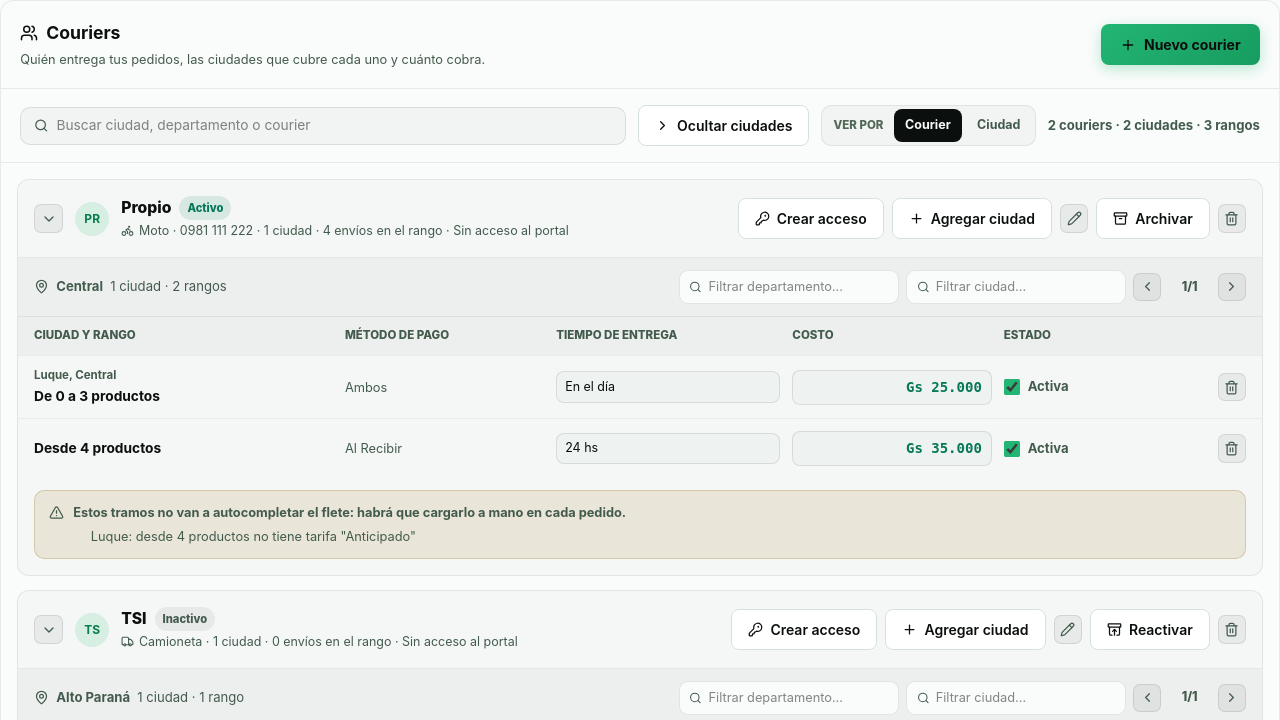
Scenario: exige una ciudad antes de dejar guardar el courier
Click the button "Nuevo courier". click: point(1180, 45)
box: [1101,24,1260,65]
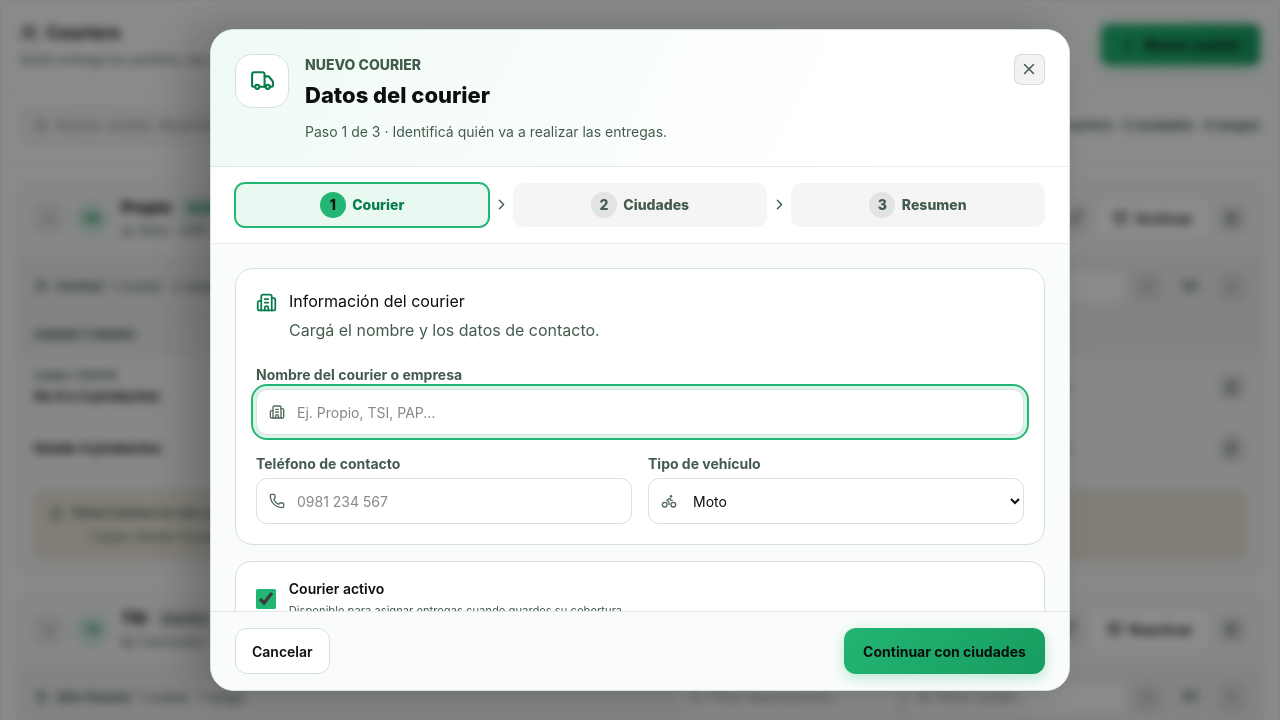
Type "PAP" into the field with placeholder "Ej. Propio, TSI, PAP...". click: point(640, 412)
box: [256,389,1024,435]
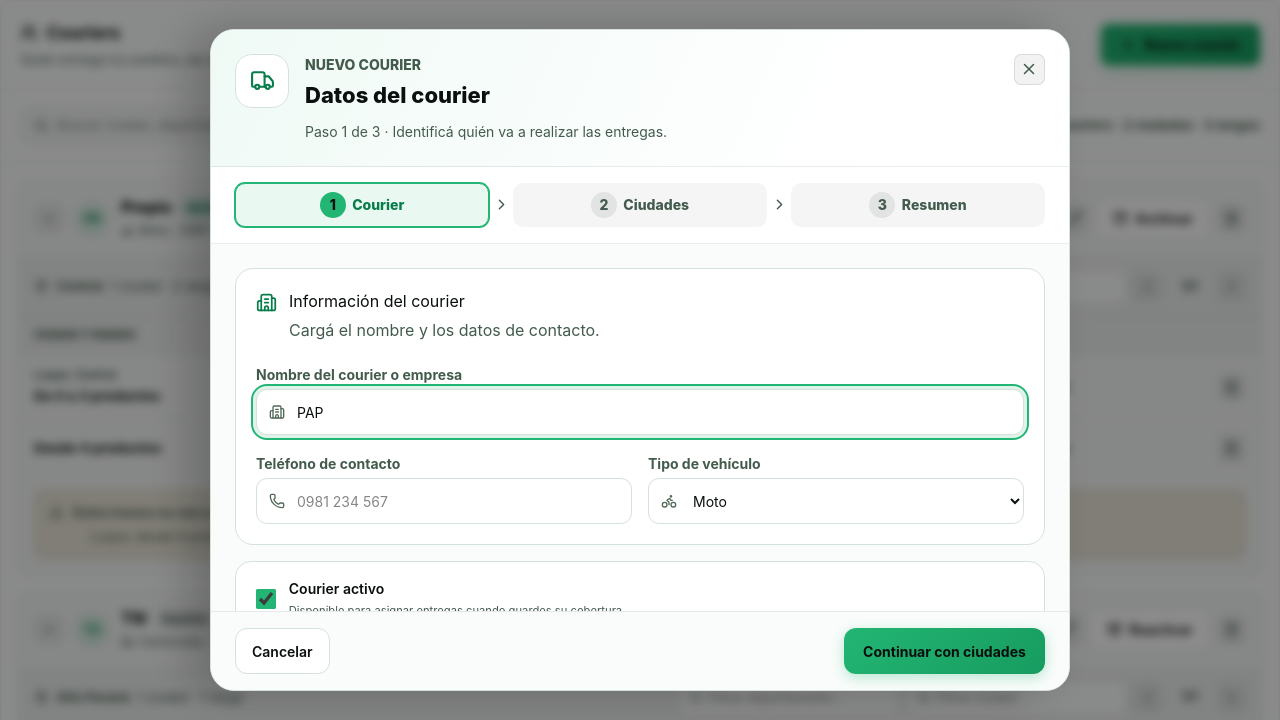
Click the button "Continuar con ciudades". click: point(944, 651)
box: [844,628,1045,674]
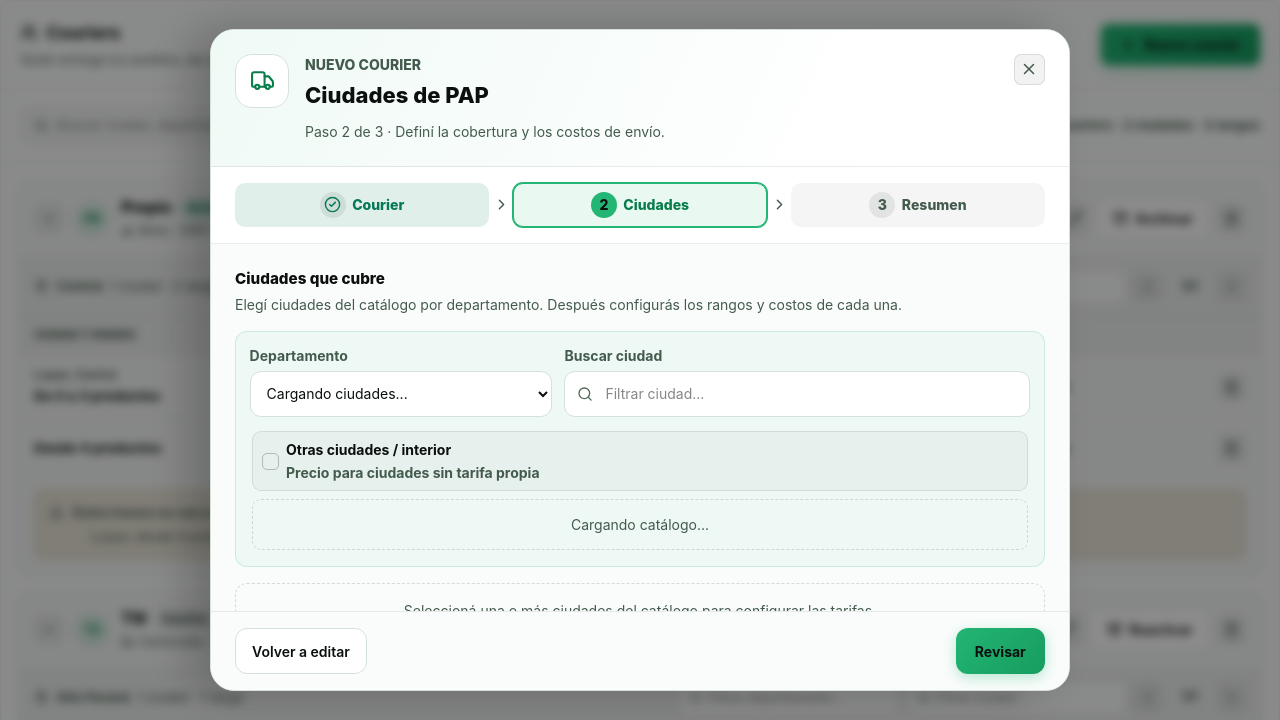
Click the button "Revisar". click: point(1000, 651)
box: [956,628,1045,674]
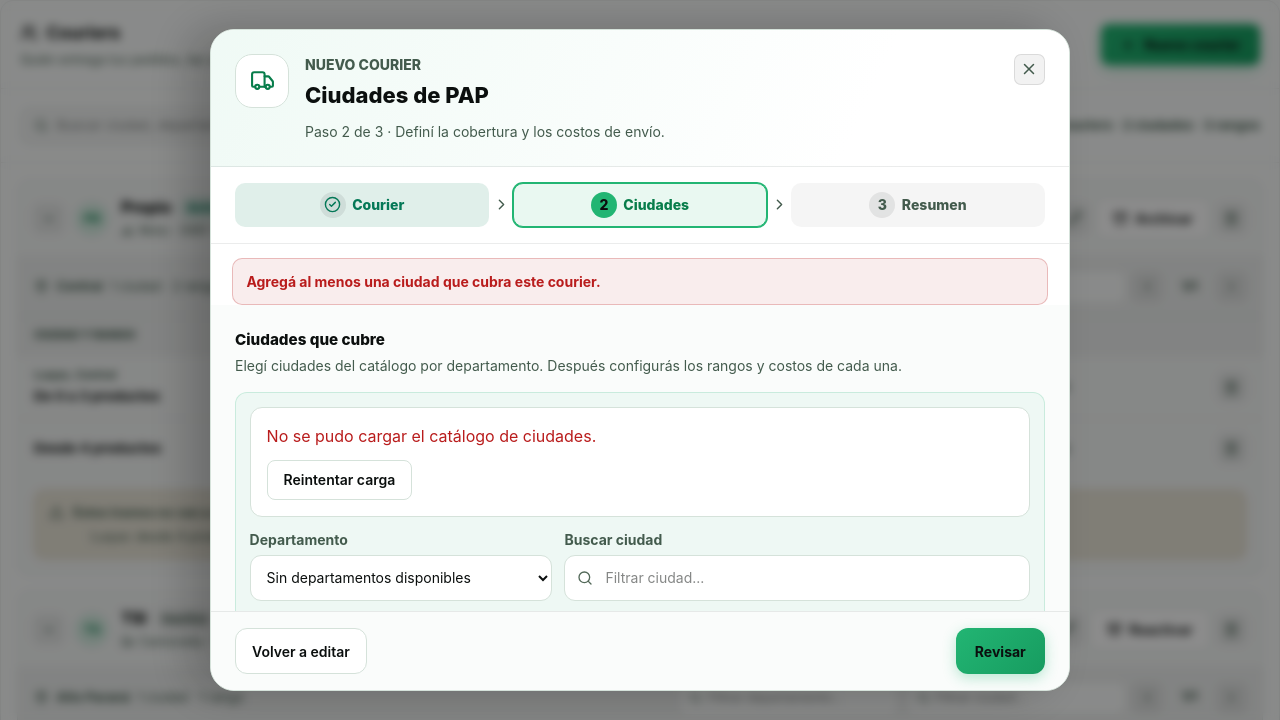
Now the text "Agregá al menos una ciudad que cubra este courier." is shown, box [232,258,1048,305]
